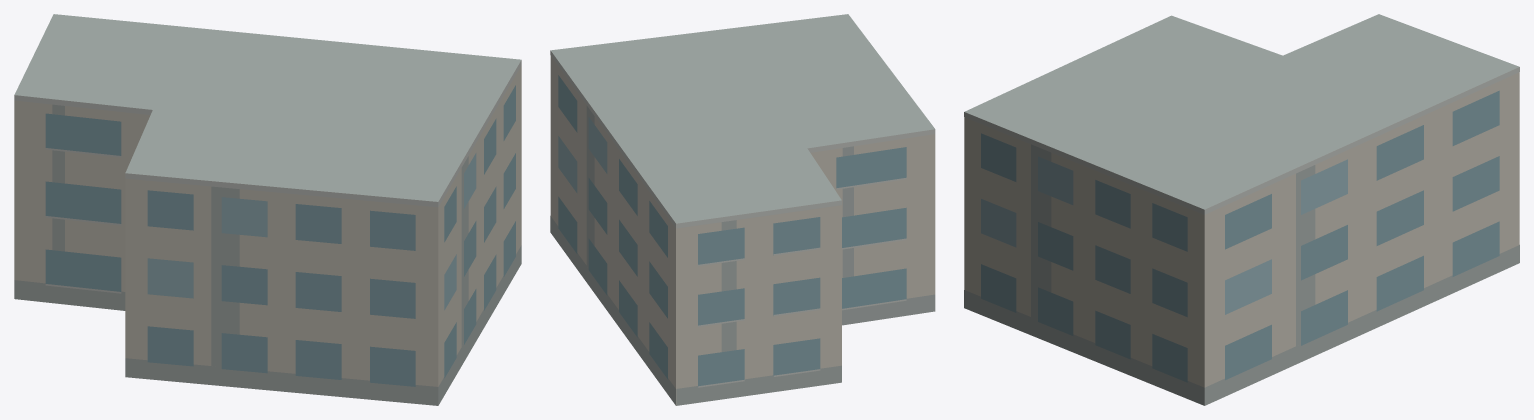
File: survey-upis-32521044.glb
3 views of the same model, side by side, from view 1: azimuth 30°, elevation 25°; view 2: azimuth 150°, elevation 25°; view 3: azimuth 270°, elevation 25° (orthographic). The views are drawn at different scales.
Visible parts, largest first — view 1: survey-upis-32521044.tmp; view 2: survey-upis-32521044.tmp; view 3: survey-upis-32521044.tmp.
Part boxes in pixels (x1,y1,x2,y2): survey-upis-32521044.tmp: [14, 14, 521, 405]; survey-upis-32521044.tmp: [550, 14, 935, 405]; survey-upis-32521044.tmp: [964, 14, 1519, 405].
Bounding box in the file's own units: 19.58 × 9.15 × 23.49.
